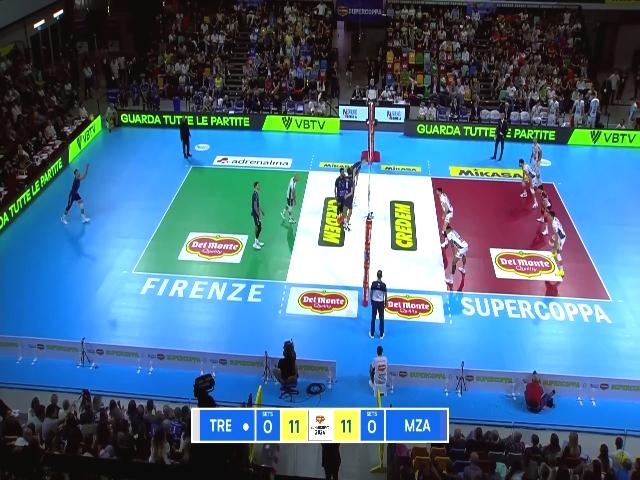volleyball court: (130, 164, 612, 302)
